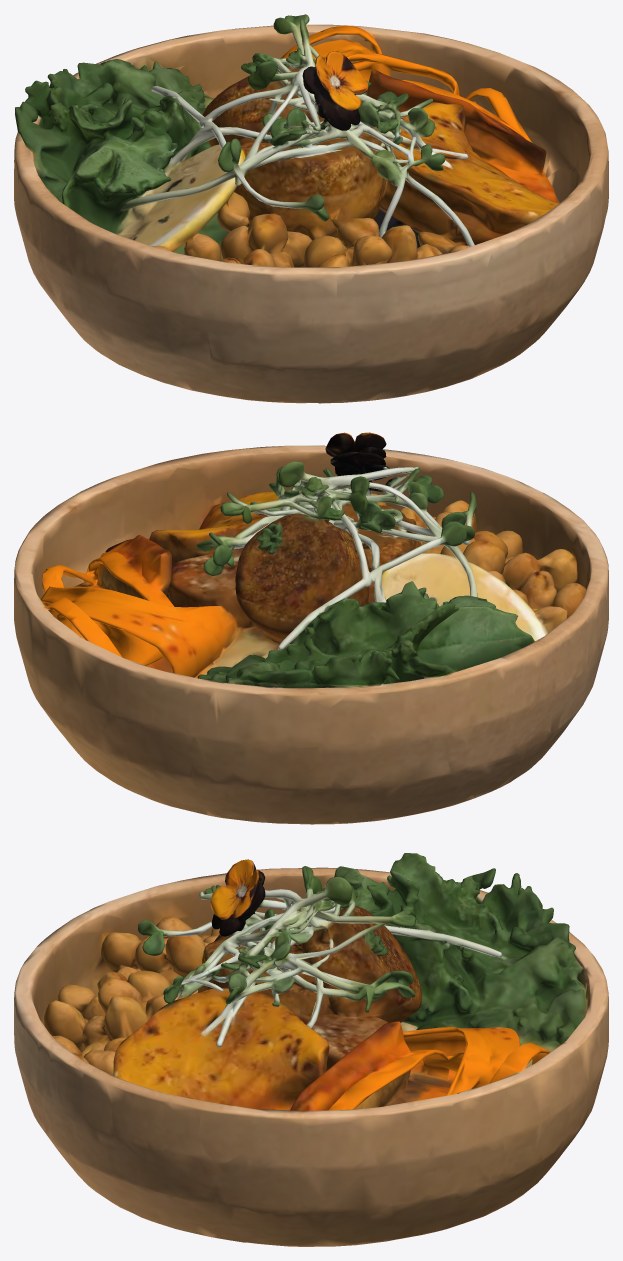
The model's file is gyro.glb.
3 views of the same model, one above another, from view 1: azimuth 30°, elevation 25°; view 2: azimuth 150°, elevation 25°; view 3: azimuth 270°, elevation 25° (orthographic).
Visible parts, largest first — view 1: tripo_node_a63866b6-0670-4ed7-8a82-2c881caa5187; view 2: tripo_node_a63866b6-0670-4ed7-8a82-2c881caa5187; view 3: tripo_node_a63866b6-0670-4ed7-8a82-2c881caa5187.
Boxes of the visible parts, box(x1,y1,x2,y2) form: tripo_node_a63866b6-0670-4ed7-8a82-2c881caa5187: box(14, 14, 608, 403); tripo_node_a63866b6-0670-4ed7-8a82-2c881caa5187: box(14, 432, 608, 824); tripo_node_a63866b6-0670-4ed7-8a82-2c881caa5187: box(14, 853, 608, 1246).
Size of the model in its own units: 0.9797 by 0.4934 by 0.9794.
1 material, 1 textured.
